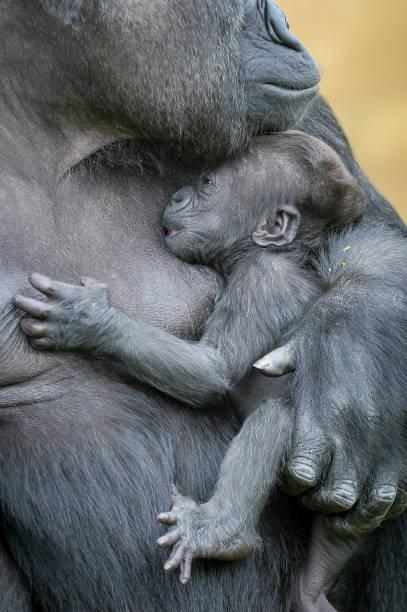gorille_Autres: (10, 0, 407, 604)
